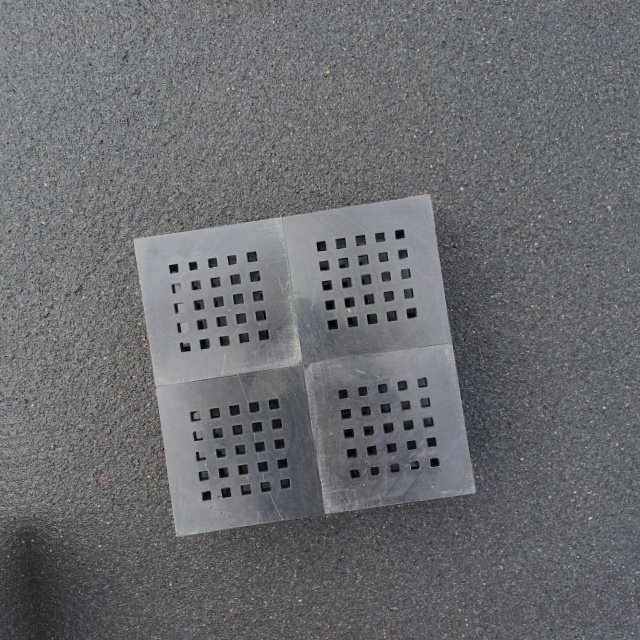pallet: (126, 192, 486, 545)
